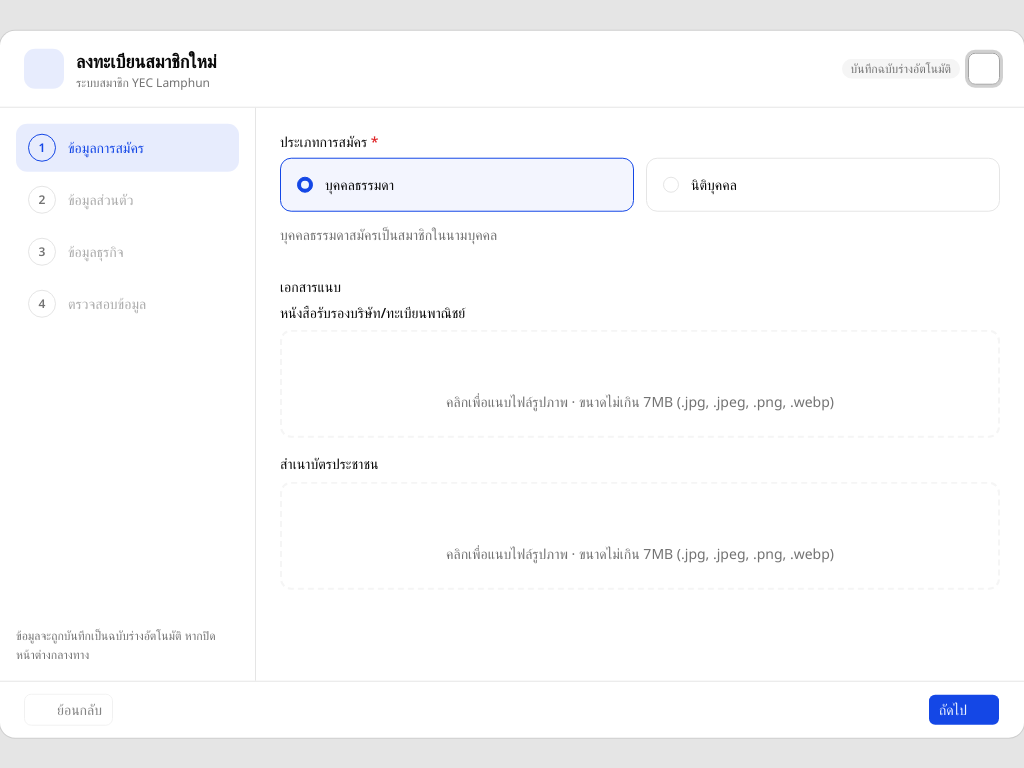
Test: MemberWizardDialog › Unhappy cases › juristic applicant without the company certificate cannot advance past step 1
Check: the heading "ลงทะเบียนสมาชิกใหม่" is shown, box [76,47,217,75]
Click the radio button named "นิติบุคคล" next to "นิติบุคคล". click: (671,185)
box: [663,177,679,193]
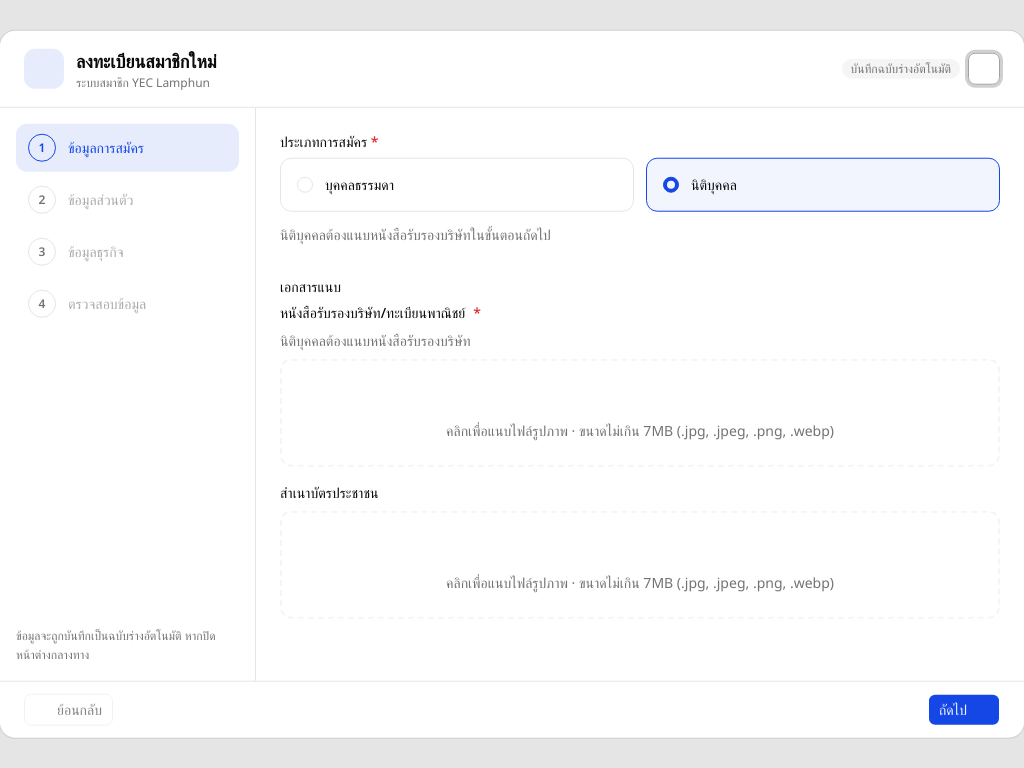
Click the button "ถัดไป". click: (964,709)
box: [928,693,1000,725]
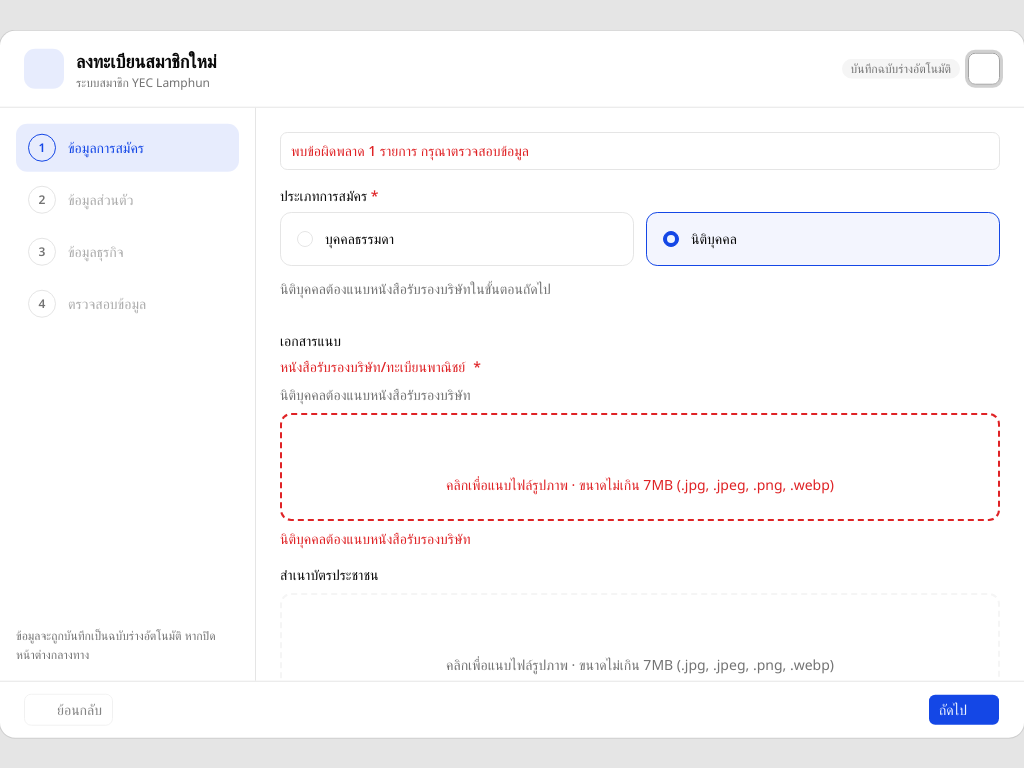
Check: the button "2 ข้อมูลส่วนตัว" is disabled, box [16,176,239,224]
Check: the text "นิติบุคคลต้องแนบหนังสือรับรองบริษัท" is shown, box [280,385,471,404]
Check: the text "พบข้อผิดพลาด 1 รายการ กรุณาตรวจสอบข้อมูล" is shown, box [291,141,529,160]
